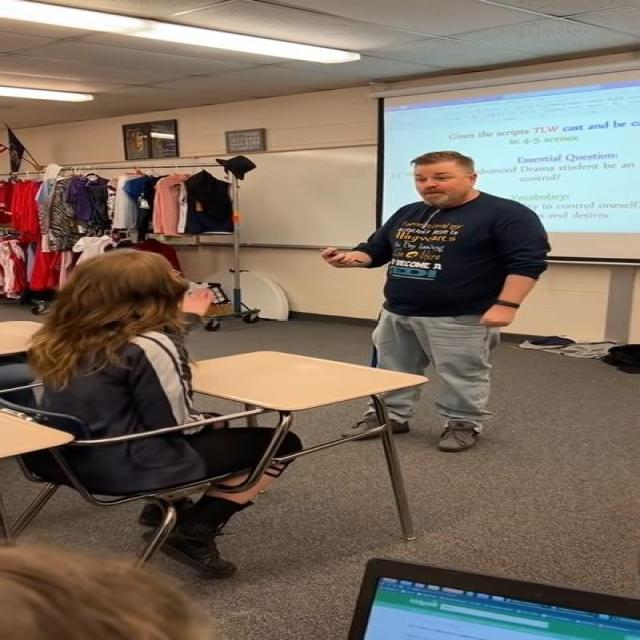NO-Mask: (412, 154, 476, 207)
